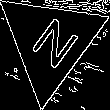N_SW: (21, 10, 80, 75)
